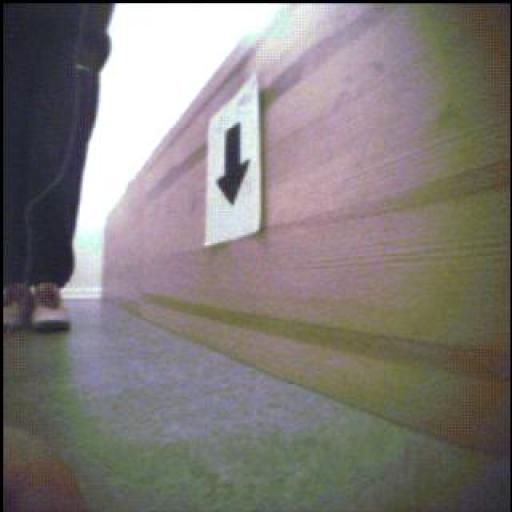arrow: (219, 124, 251, 206)
